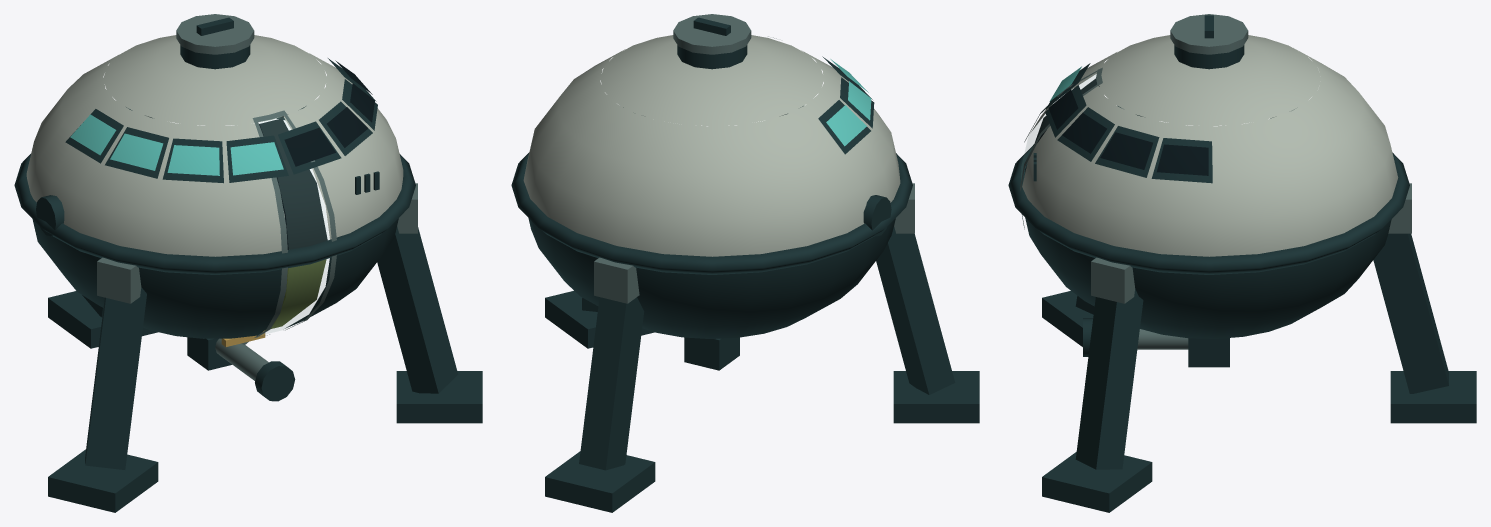
Rendered from yushi045_container_d0_lod1.glb.
3 views of the same model, side by side, from view 1: azimuth 30°, elevation 25°; view 2: azimuth 150°, elevation 25°; view 3: azimuth 270°, elevation 25° (orthographic).
Parts seen in each view (by area): view 1: YUSHI_BODY, YUSHI_GLASS; view 2: YUSHI_BODY; view 3: YUSHI_BODY, YUSHI_GLASS.
Part boxes in pixels (x1=…): YUSHI_BODY: x1=14, y1=14, x2=482, y2=512; YUSHI_GLASS: x1=260, y1=117, x2=328, y2=334; YUSHI_BODY: x1=511, y1=14, x2=979, y2=512; YUSHI_BODY: x1=1008, y1=14, x2=1476, y2=512; YUSHI_GLASS: x1=1021, y1=74, x2=1096, y2=176.
Bounding box in the file's own units: 3.74 × 3.15 × 3.49.
